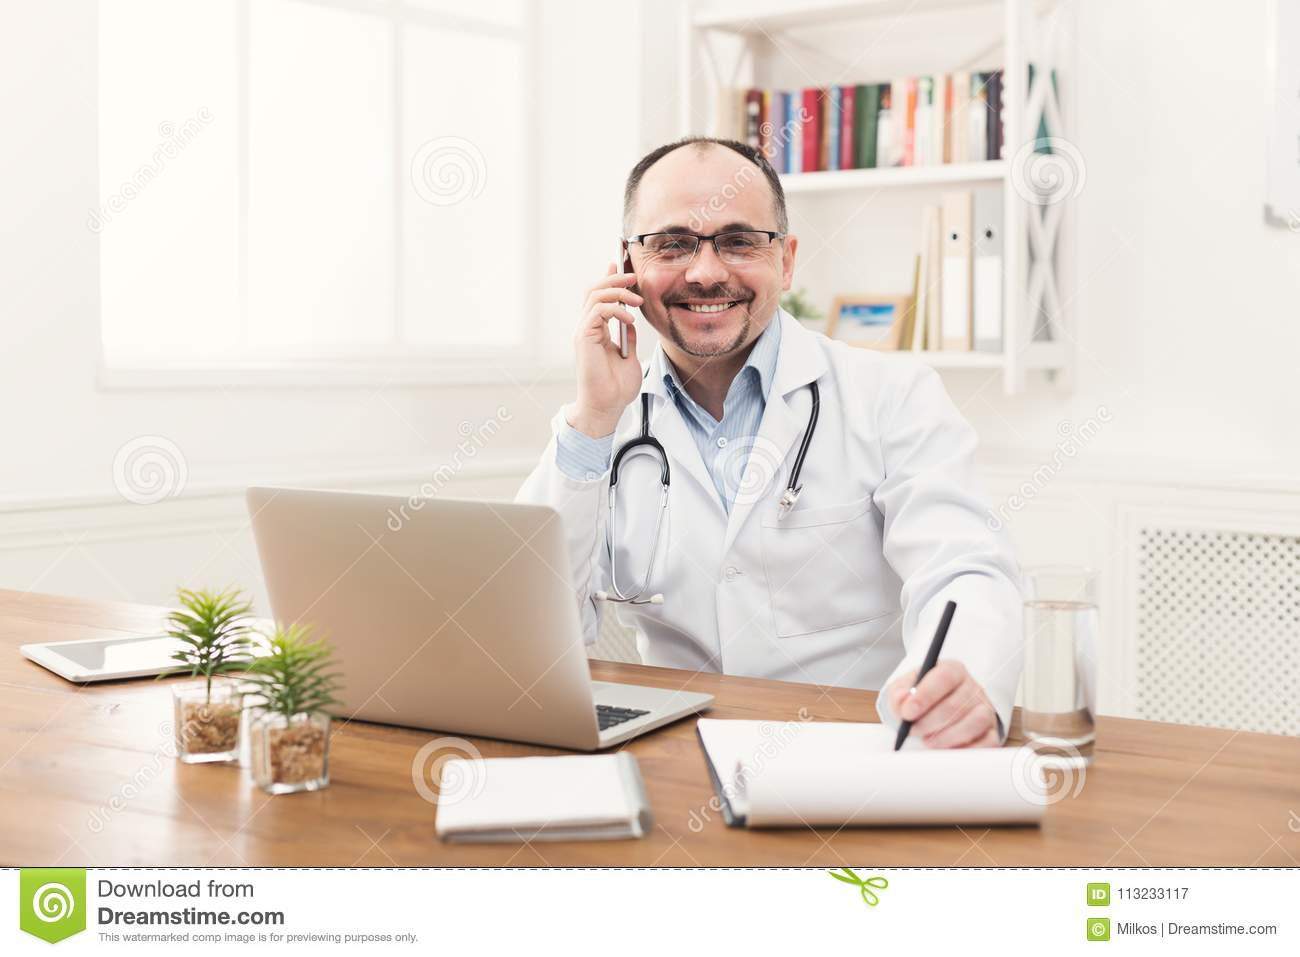phone: (604, 229, 634, 363)
talk: (573, 213, 774, 410)
